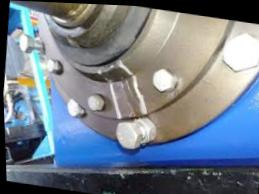leak: (95, 59, 148, 118)
